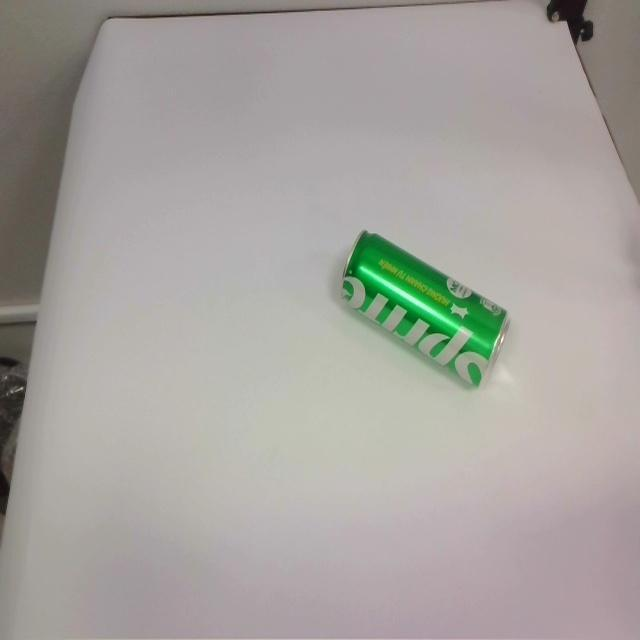debris: (341, 229, 511, 392)
